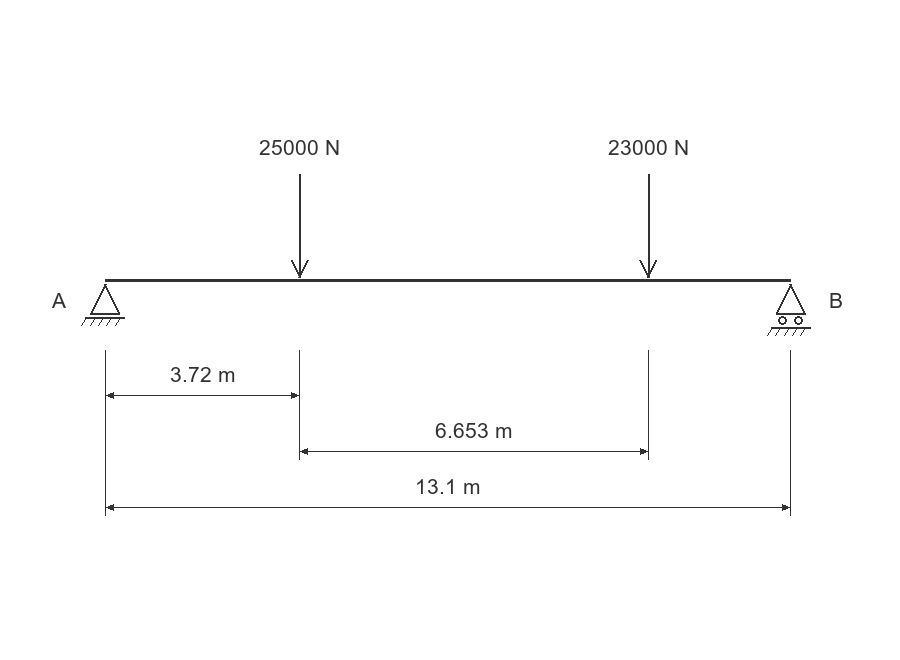pin_support: (81, 284, 125, 326)
point_load: (291, 174, 309, 278), (639, 174, 657, 278)
roller_support: (767, 284, 811, 336)
